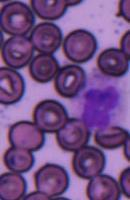N: (71, 71, 128, 131)
